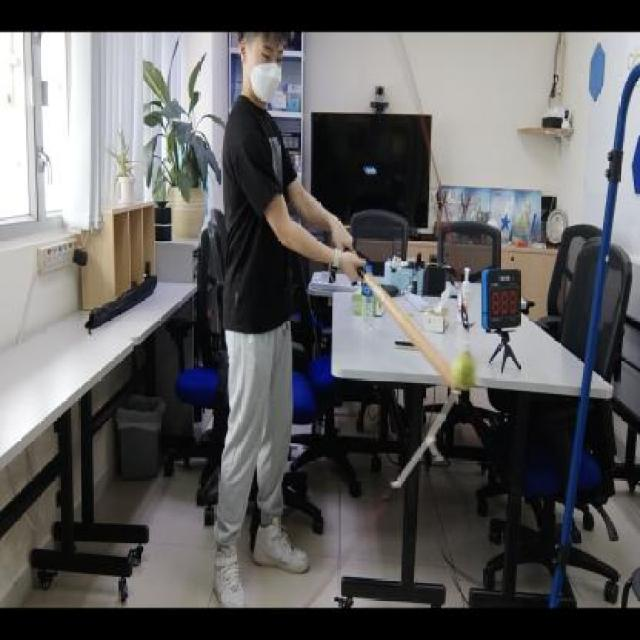baseball: (450, 348, 478, 392)
